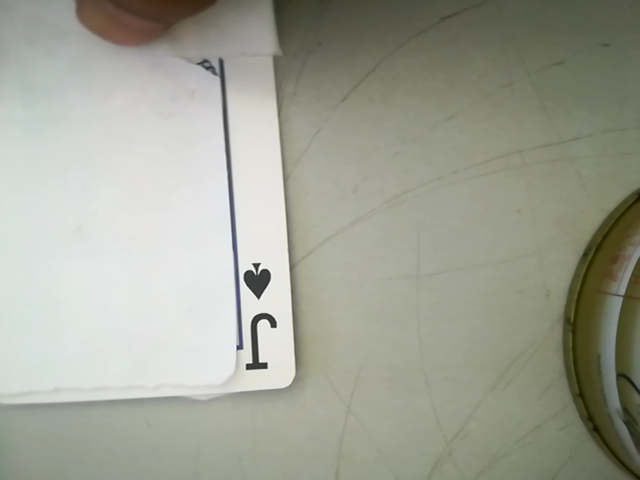ht j: (220, 244, 284, 385)
